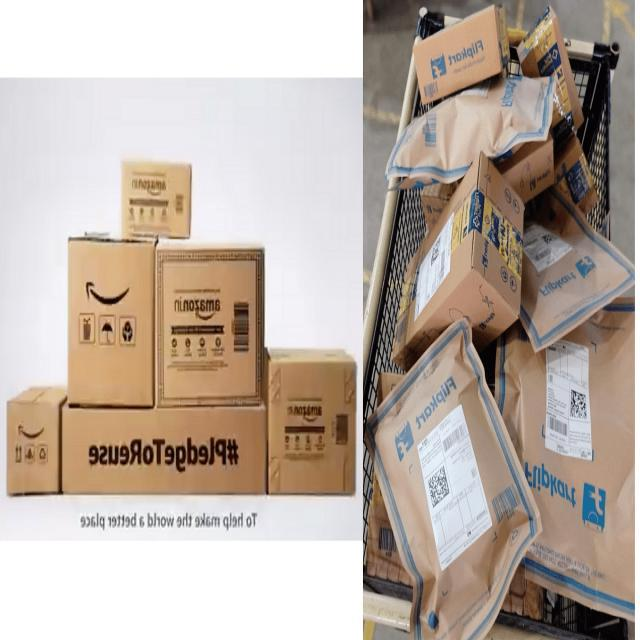cardboxes: (360, 316, 544, 640), (498, 281, 640, 628), (374, 68, 564, 185)
